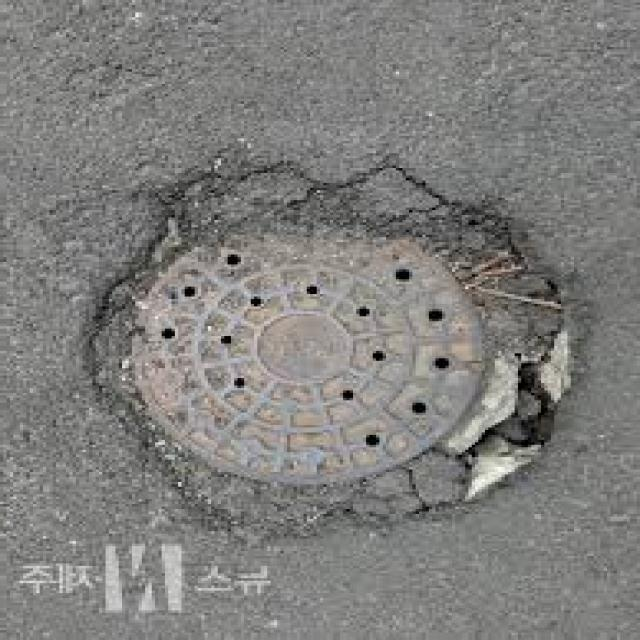Sewer Cover: (112, 196, 523, 488)
